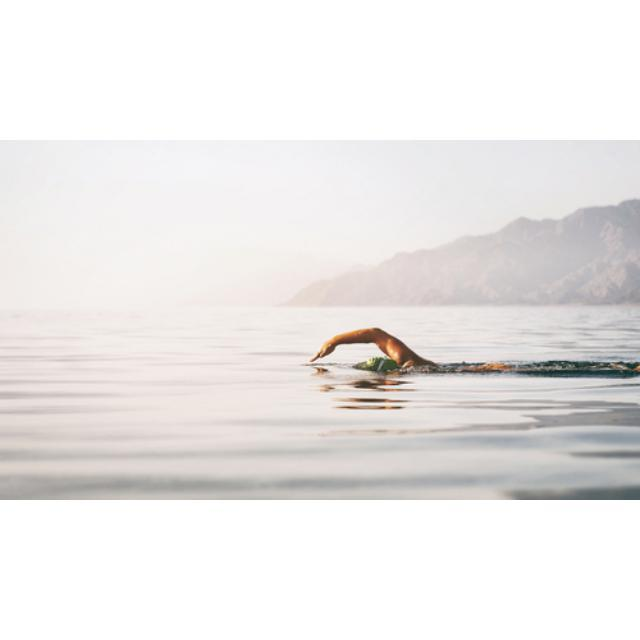human: (312, 327, 507, 376)
